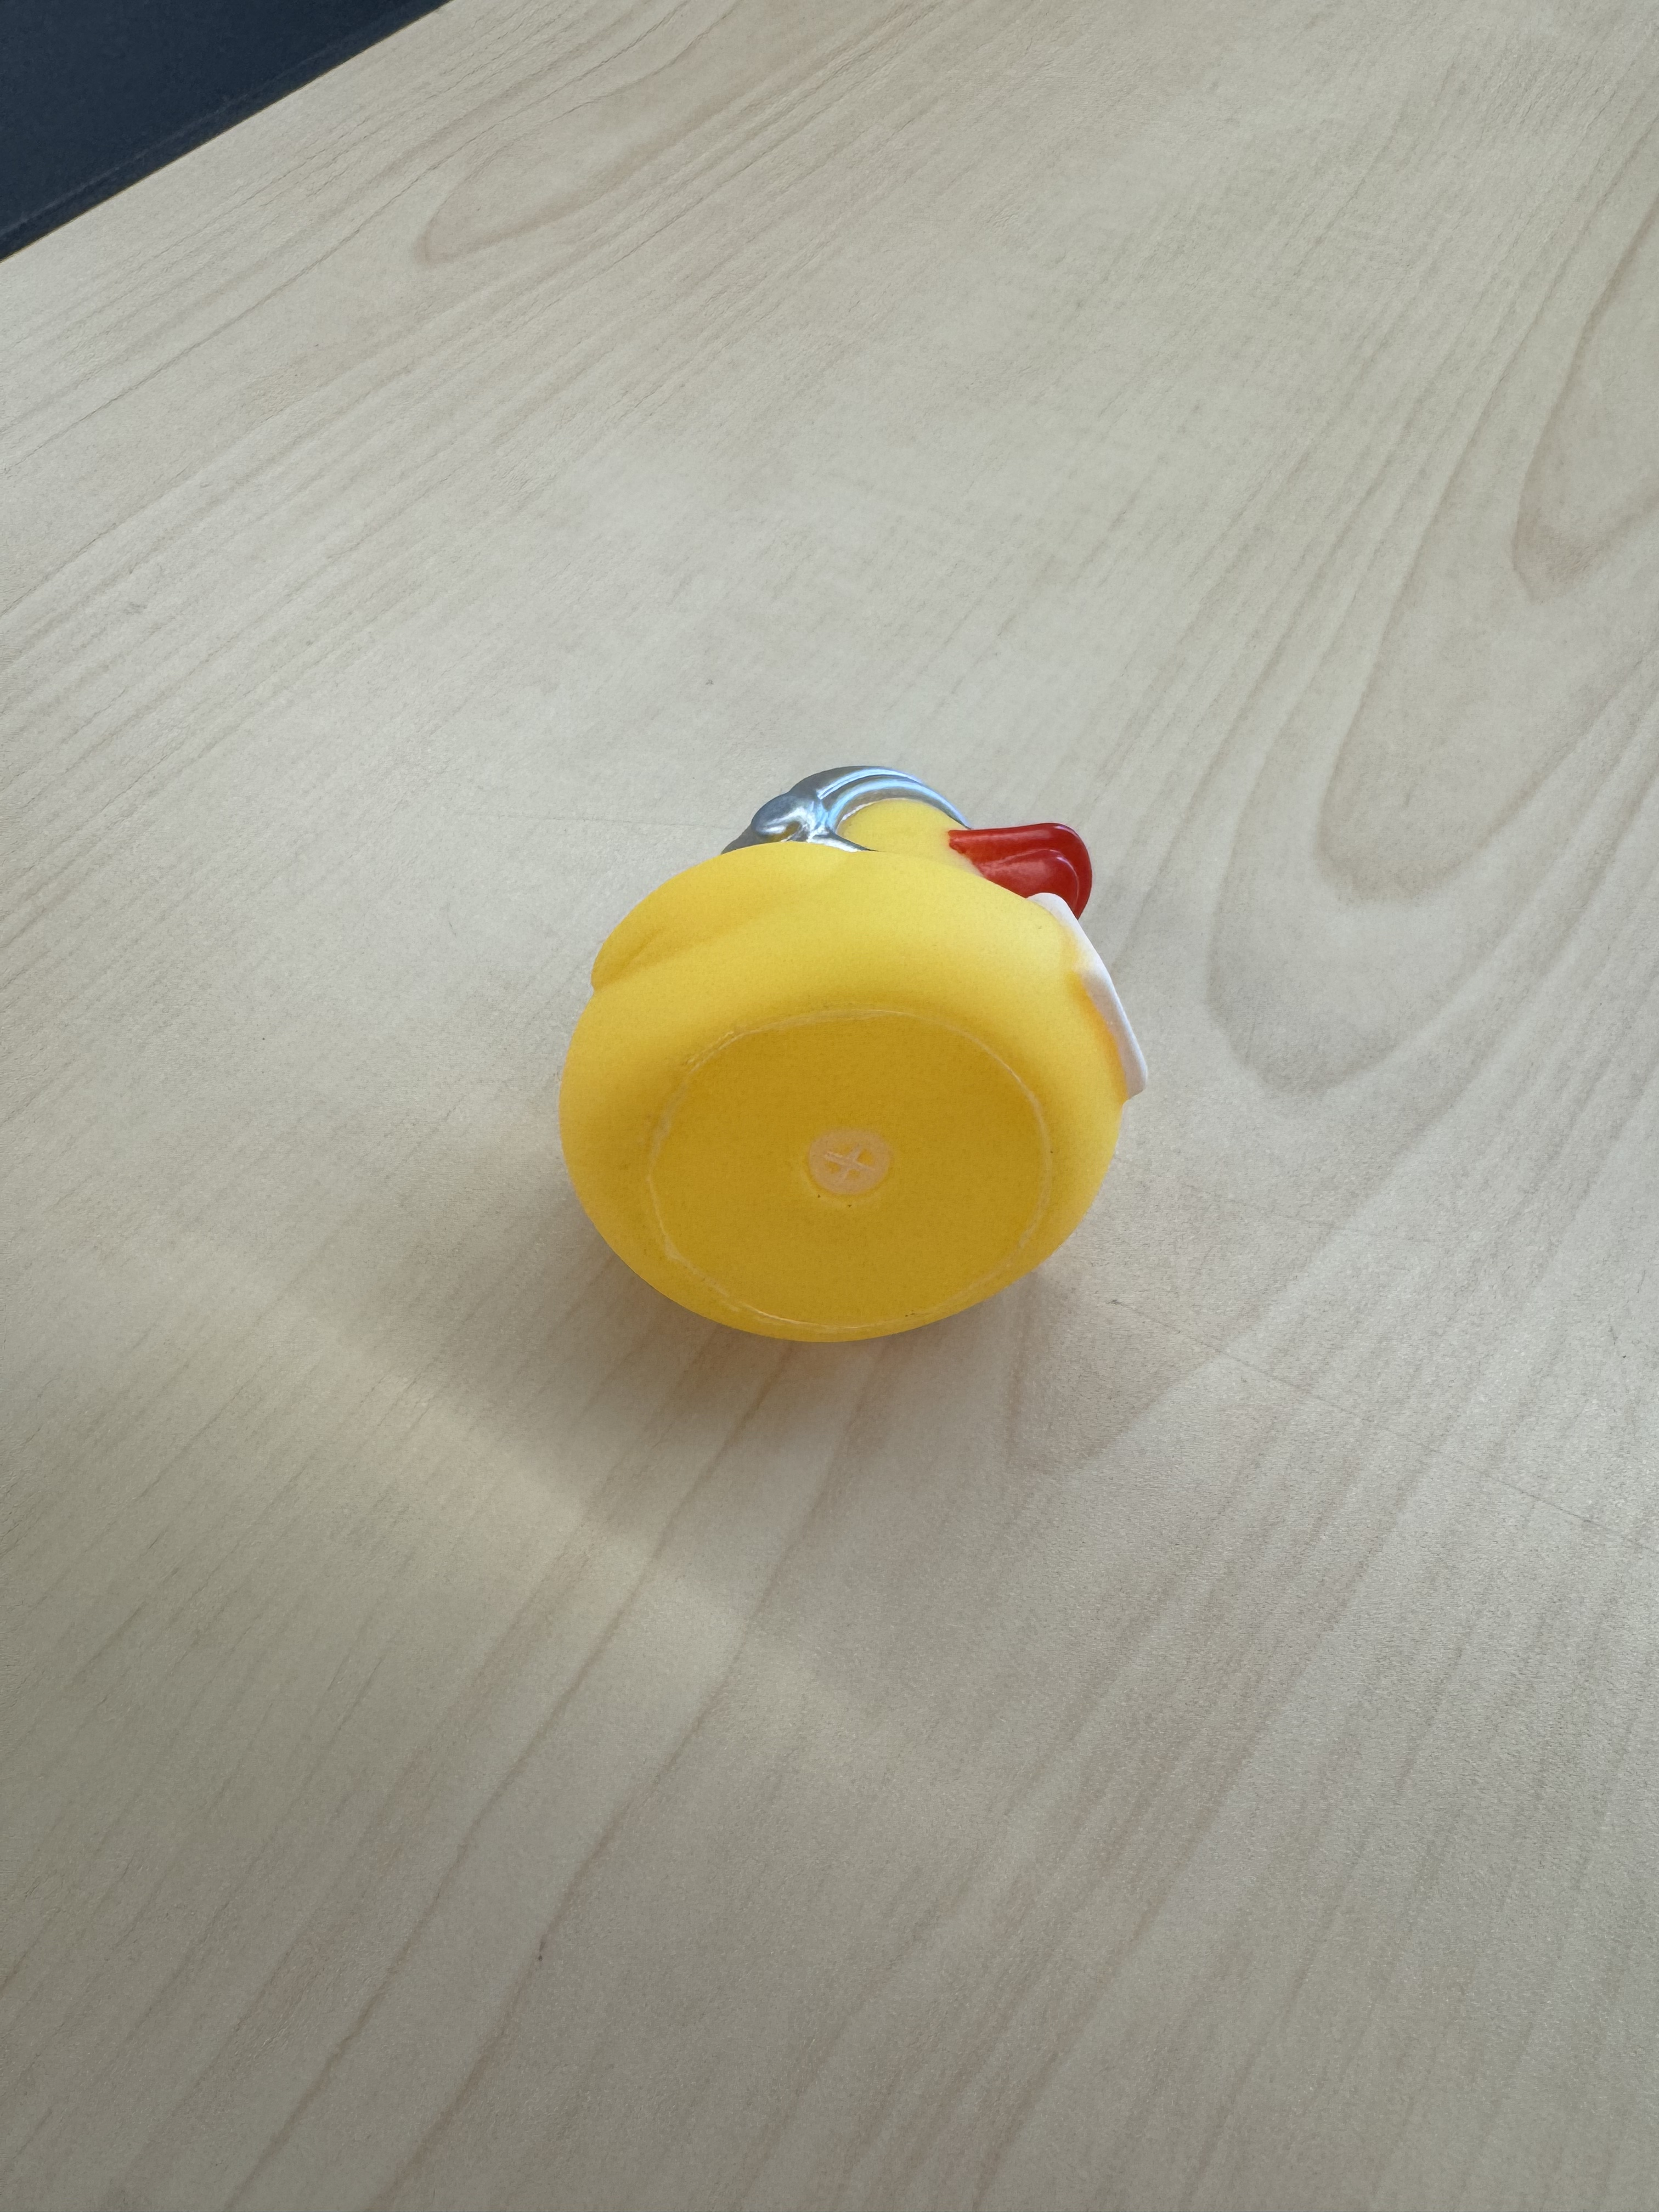duck_specialty: (544, 742, 1180, 1371)
